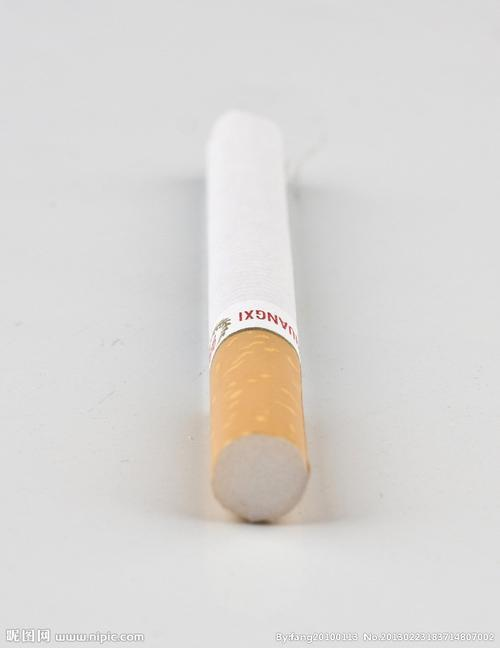smoke: (209, 112, 309, 522)
